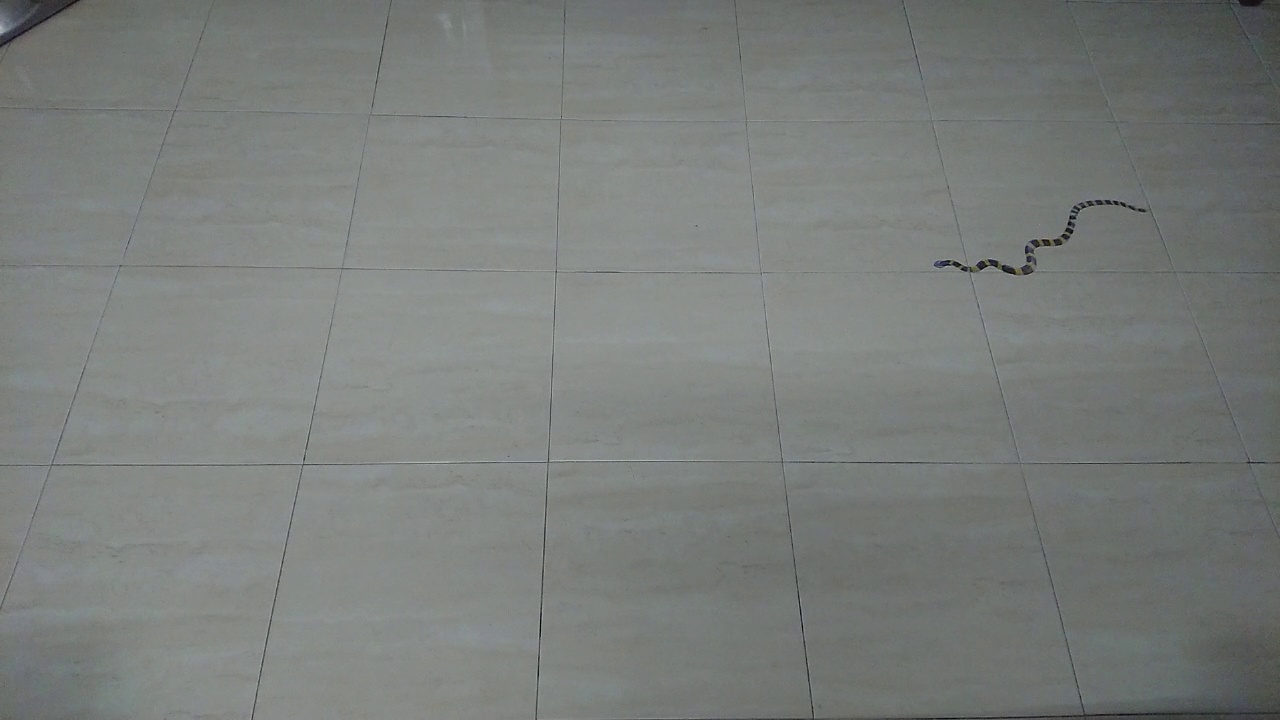snake: (926, 191, 1153, 289)
